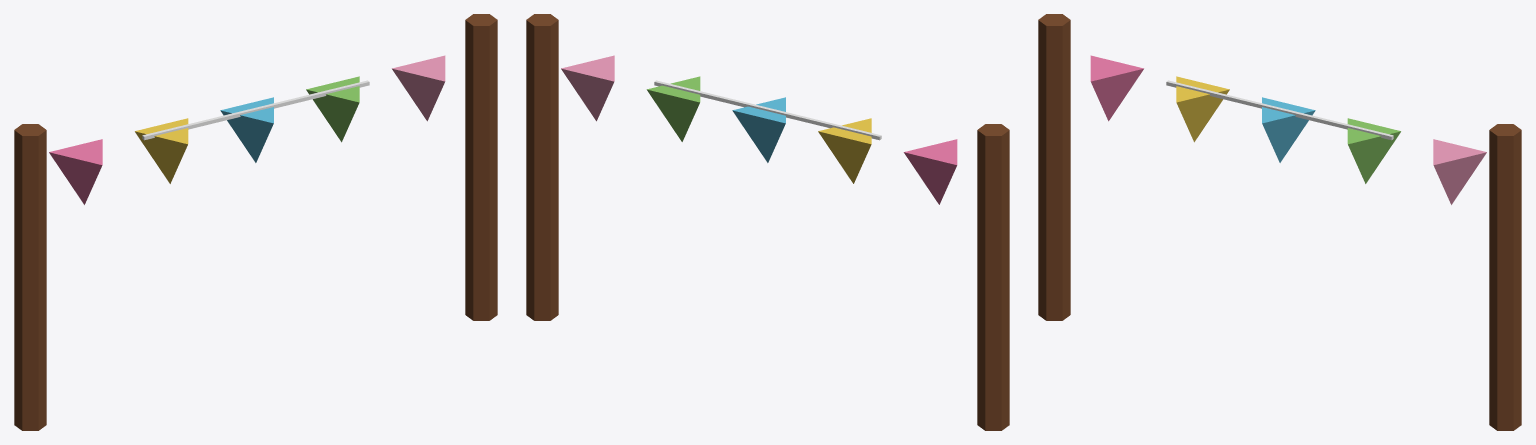
Rendered from clothesline.glb.
3 views of the same model, side by side, from view 1: azimuth 30°, elevation 25°; view 2: azimuth 150°, elevation 25°; view 3: azimuth 330°, elevation 25° (orthographic).
Visible parts, largest first — view 1: Cone; view 2: Cone; view 3: Cone.
Boxes of the visible parts, x1,y1,x2,y2 form: Cone: (14, 14, 497, 430); Cone: (526, 14, 1009, 430); Cone: (1038, 14, 1521, 430).
Size of the model in its own units: 2.19 by 1.3 by 0.2145.
